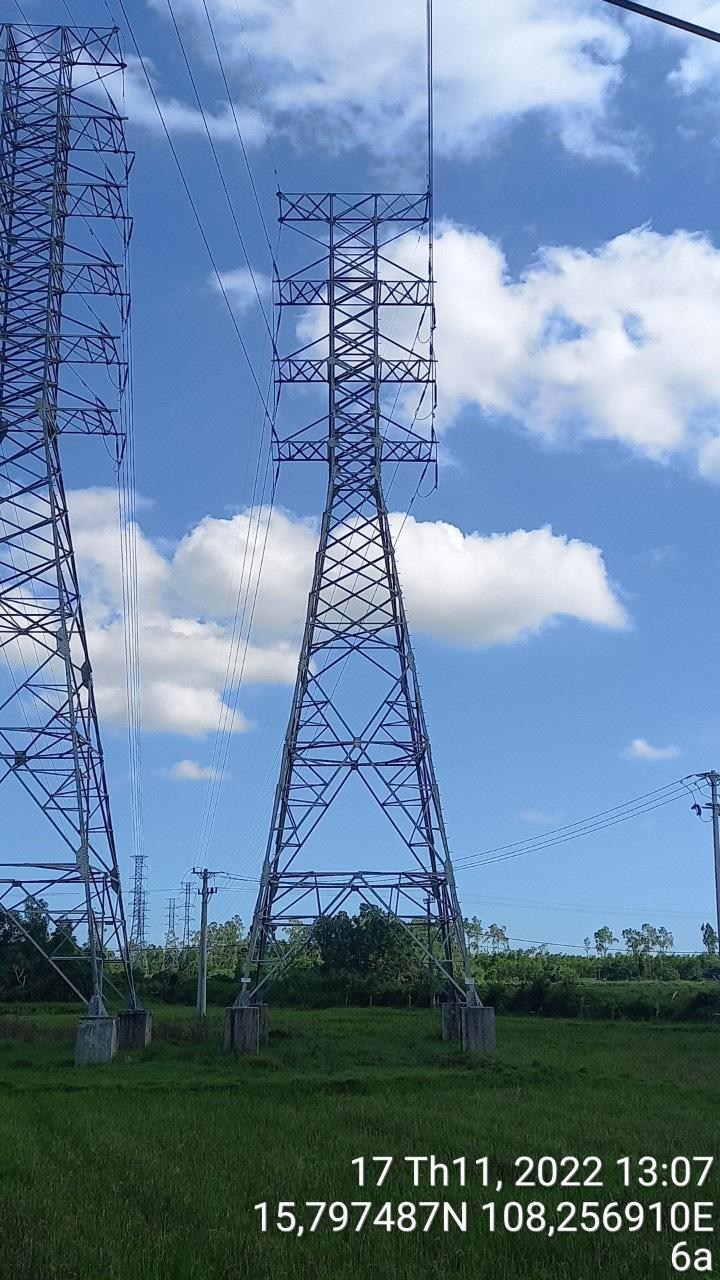power_tower: (268, 180, 470, 1050)
